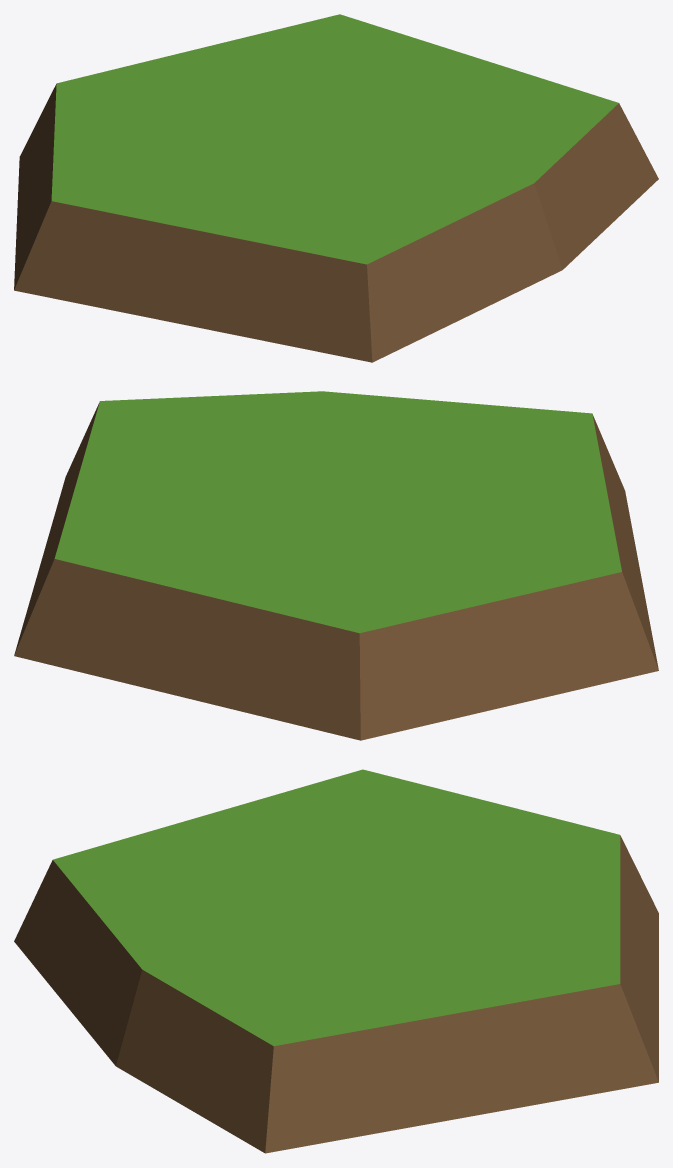
Rendered from stone_flat.glb.
3 views of the same model, one above another, from view 1: azimuth 30°, elevation 25°; view 2: azimuth 150°, elevation 25°; view 3: azimuth 270°, elevation 25° (orthographic). The views are drawn at different scales.
Parts seen in each view (by area): view 1: rock_smallFlatA; view 2: rock_smallFlatA; view 3: rock_smallFlatA.
Boxes of the visible parts, <box> form: rock_smallFlatA: <box>14,14,658,362</box>; rock_smallFlatA: <box>14,391,658,740</box>; rock_smallFlatA: <box>14,769,658,1153</box>.
Bounding box in the file's own units: 1.91 × 0.25 × 1.65.
